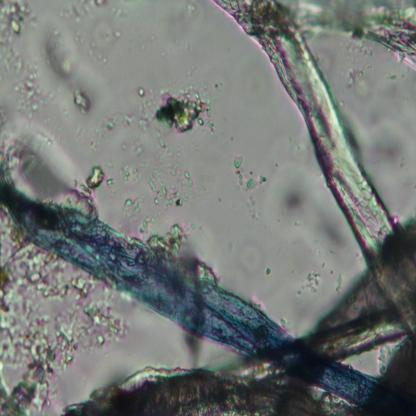Background material: (0, 235, 129, 416), (265, 167, 350, 260), (3, 127, 86, 206), (0, 0, 49, 124), (117, 85, 218, 139), (123, 171, 201, 226), (50, 43, 98, 113), (64, 1, 129, 49), (334, 43, 382, 100), (228, 152, 269, 218), (82, 162, 114, 190)
Cellulose filter fibre: (218, 0, 416, 333), (59, 304, 416, 414), (212, 0, 416, 39)
Cotton: (0, 173, 390, 407)
